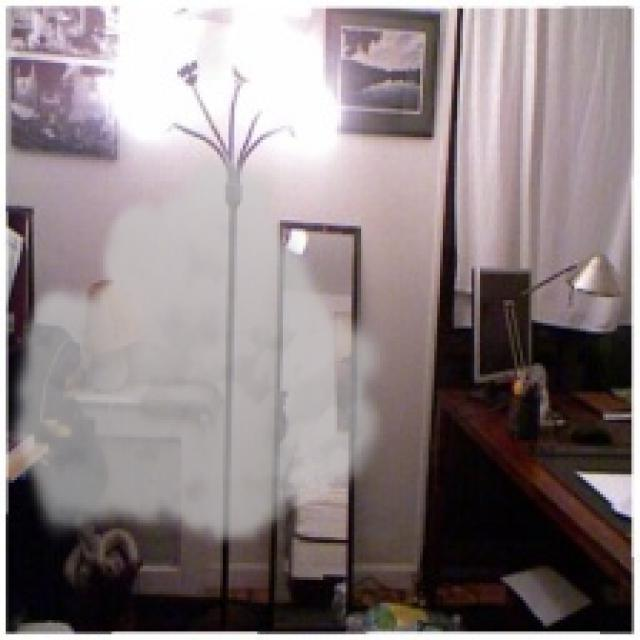smoke: (6, 140, 394, 549)
